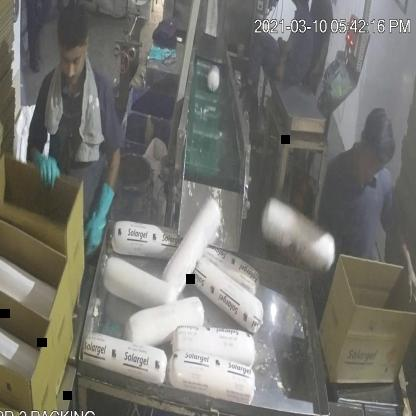glove: (80, 169, 124, 278), (22, 139, 61, 194)
no_glove: (377, 214, 416, 308), (309, 31, 336, 84)
